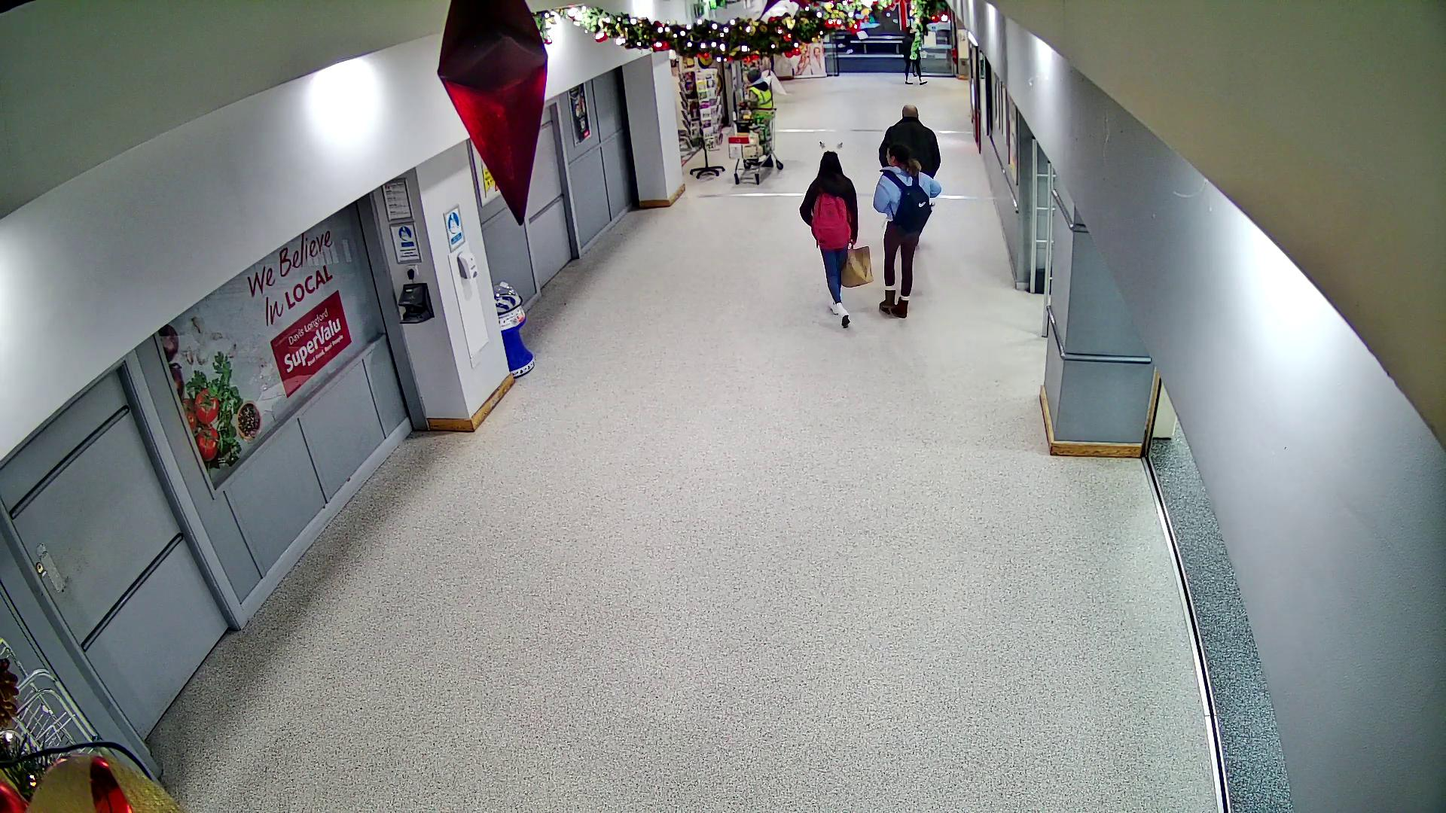backpack-or-handbag: (810, 191, 853, 251), (893, 186, 929, 235)
filled-shopping-bags: (838, 243, 873, 287)
person: (874, 143, 941, 317), (800, 153, 858, 329)
person-with-backpack-handbag: (875, 143, 941, 318)
person-with-backpack-handbag-and-shopping-bag-s-: (800, 153, 873, 330)
